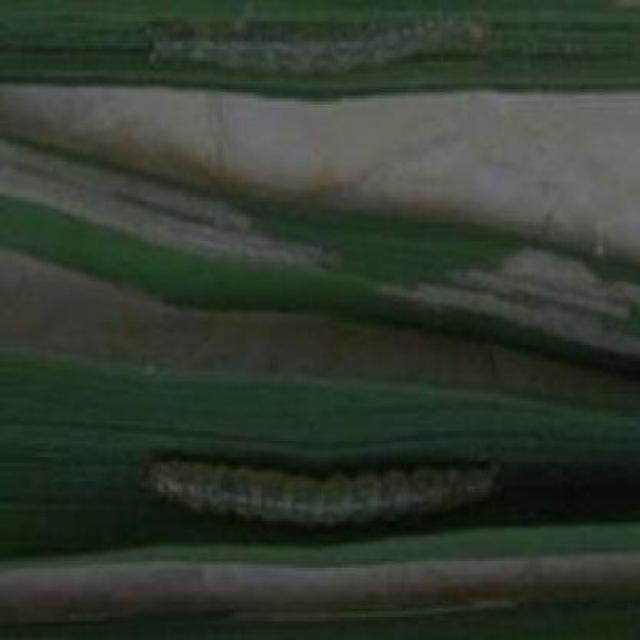leaf-folder: (136, 414, 502, 543), (140, 3, 503, 108)
